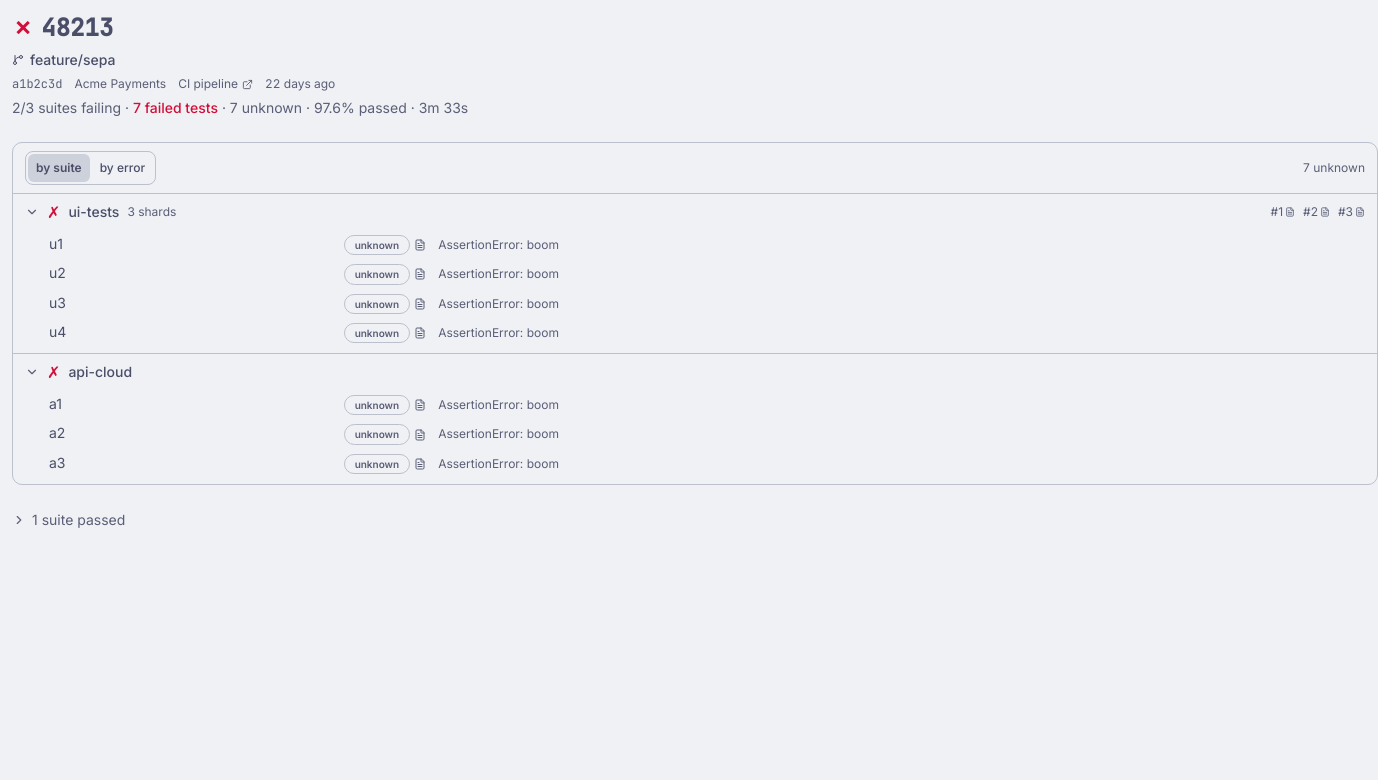
Test: RunPage › collapses the passed suites into one quiet line that opens to name, rate and duration
expect the link "contract-tests" is not shown: met
Click the heading "1 suite passed" at (69, 520), box [12,510,125,530]
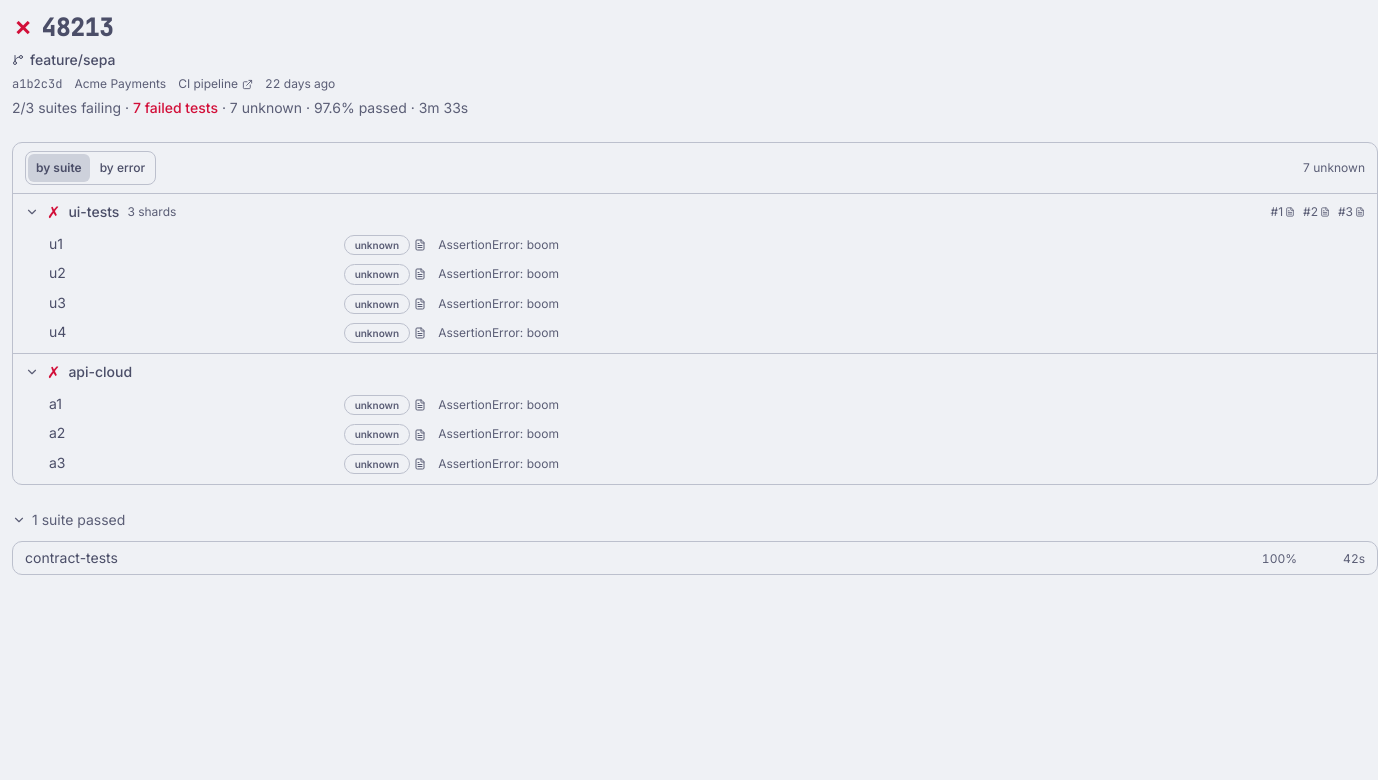
expect the link "contract-tests" is shown: met, box [25,549,118,566]
expect the list item shows "100%": met, box [1262,551,1297,566]
expect the list item shows "42s": met, box [1343,551,1365,566]
